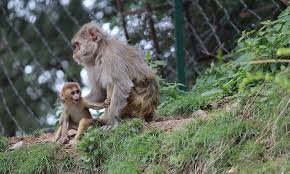monkey: (65, 21, 143, 117), (28, 63, 92, 142)
